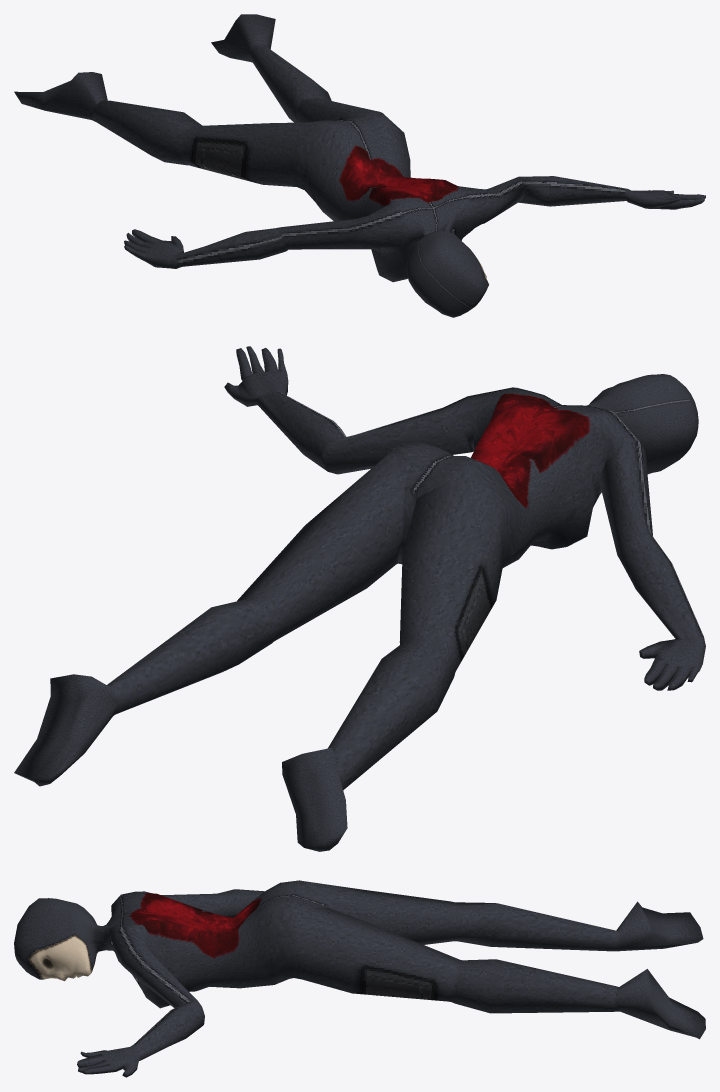
Rendered from body.gltf.
3 renders of one model, top to bottom at view 1: azimuth 30°, elevation 25°; view 2: azimuth 150°, elevation 25°; view 3: azimuth 270°, elevation 25°, orthographic. The views are drawn at different scales.
Parts seen in each view (by area): view 1: Cube.005; view 2: Cube.005; view 3: Cube.005.
Part boxes in pixels (bbox=[...]): Cube.005: bbox=[14, 14, 705, 317]; Cube.005: bbox=[14, 346, 705, 851]; Cube.005: bbox=[14, 880, 705, 1077].
Bounding box in the file's own units: 0.7594 × 0.1718 × 1.01.
1 material, 1 textured.
